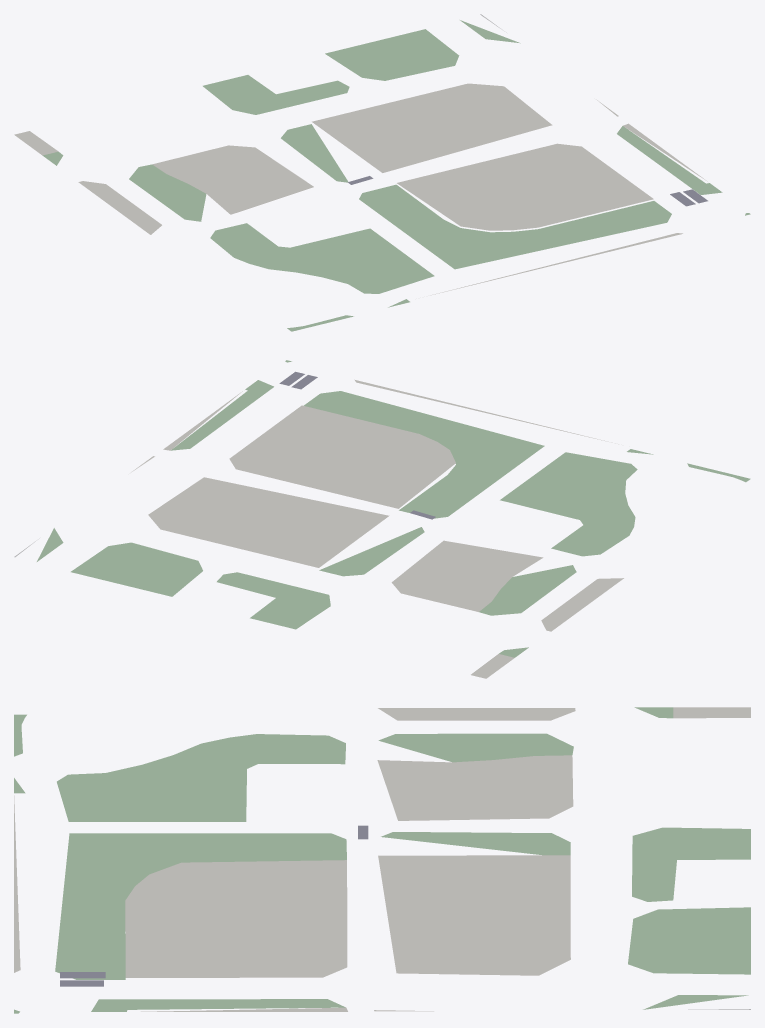
Rendered from 125_71_mid.glb.
The picture shows the model from 3 angles, top to bottom: view 1: azimuth 30°, elevation 25°; view 2: azimuth 150°, elevation 25°; view 3: azimuth 270°, elevation 25°; orthographic projection. The views are drawn at different scales.
Bounding box in the file's own units: 500 × 12.81 × 500.
